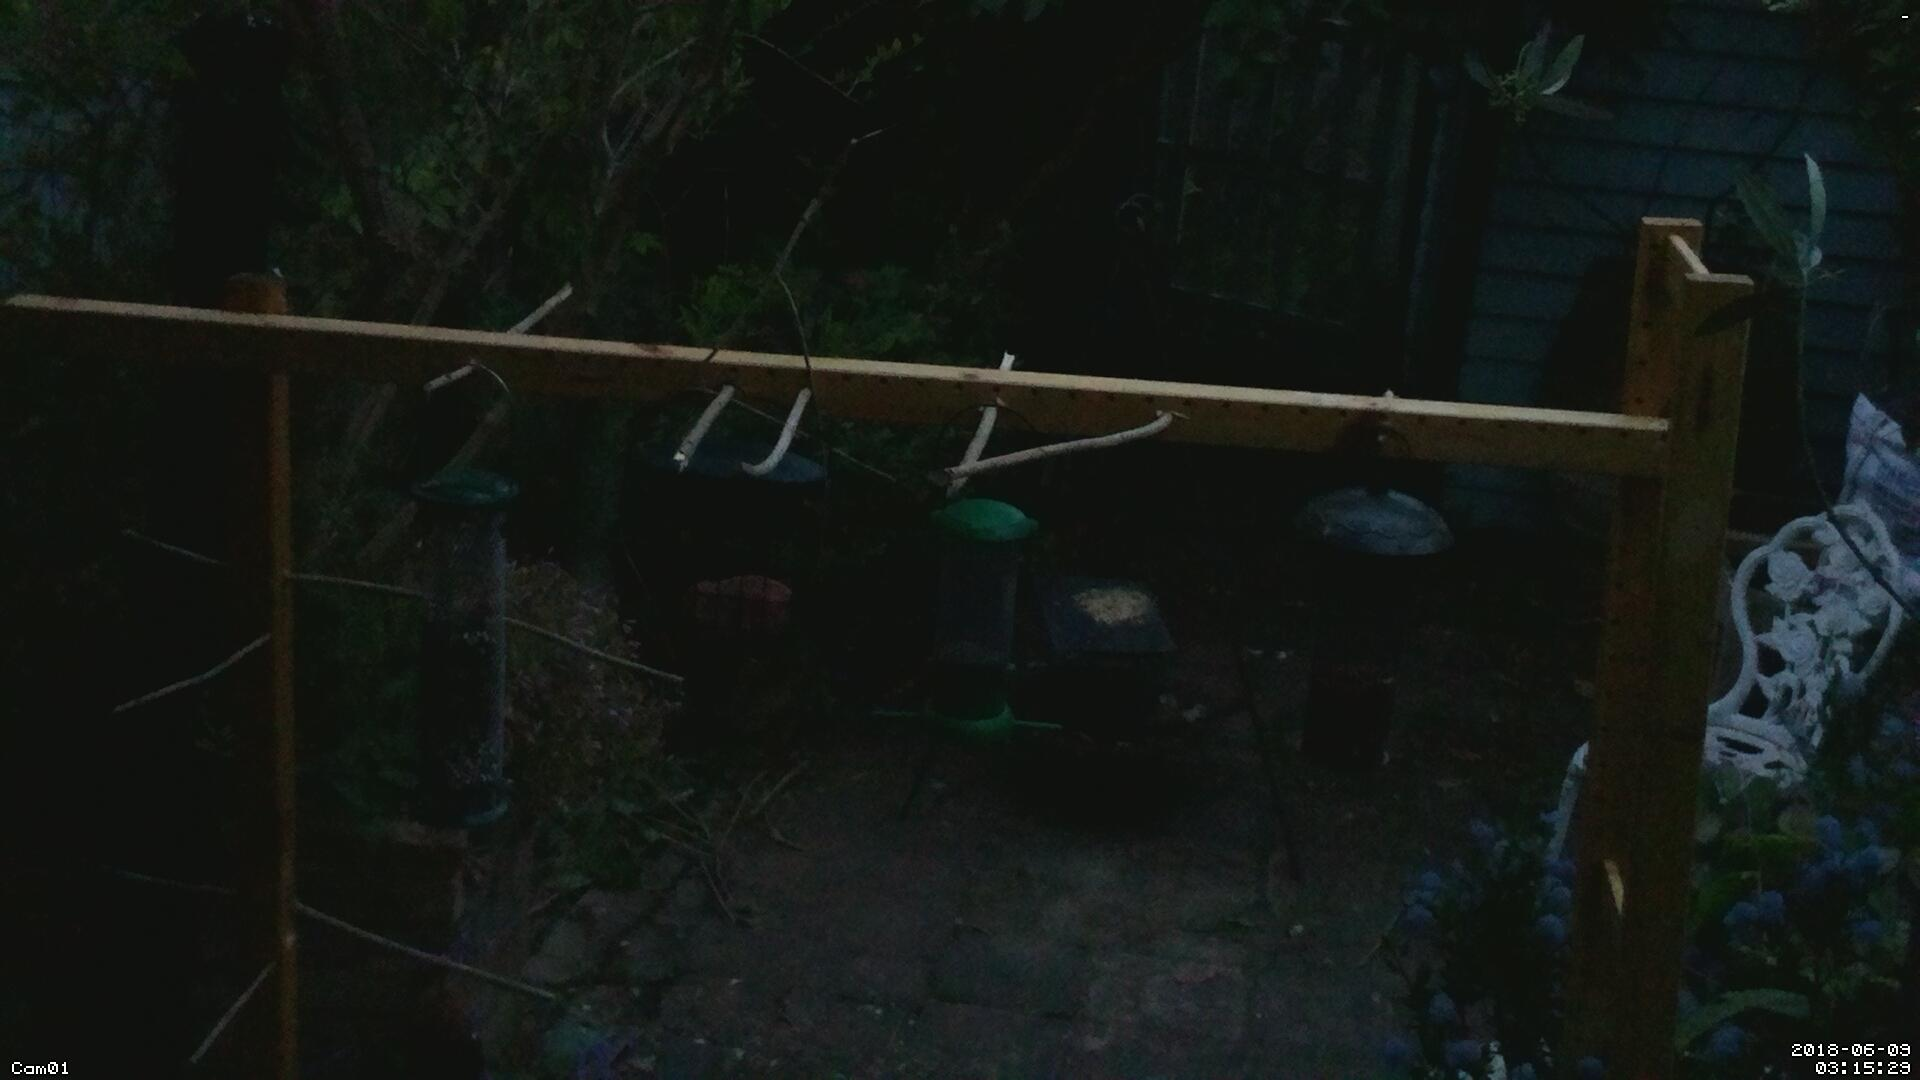unclassified: (243, 876, 400, 1013)
